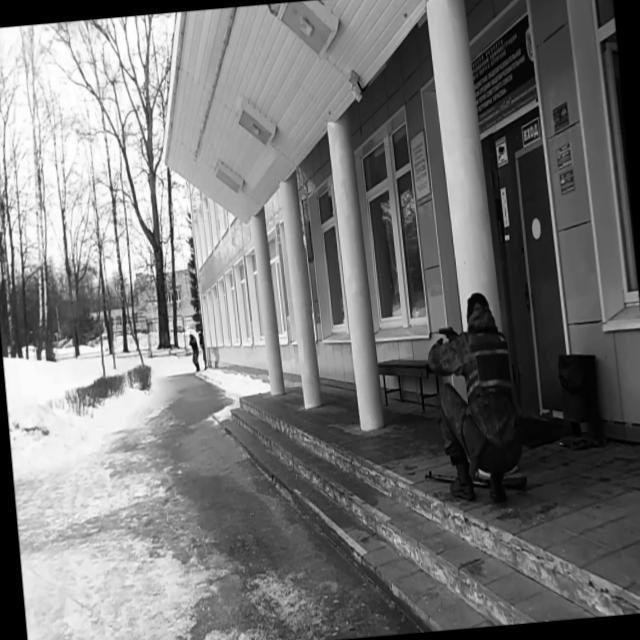gun: (423, 459, 528, 499), (437, 322, 455, 344)
person: (188, 332, 201, 372), (198, 332, 208, 372)
person with a gun: (422, 287, 528, 508)
